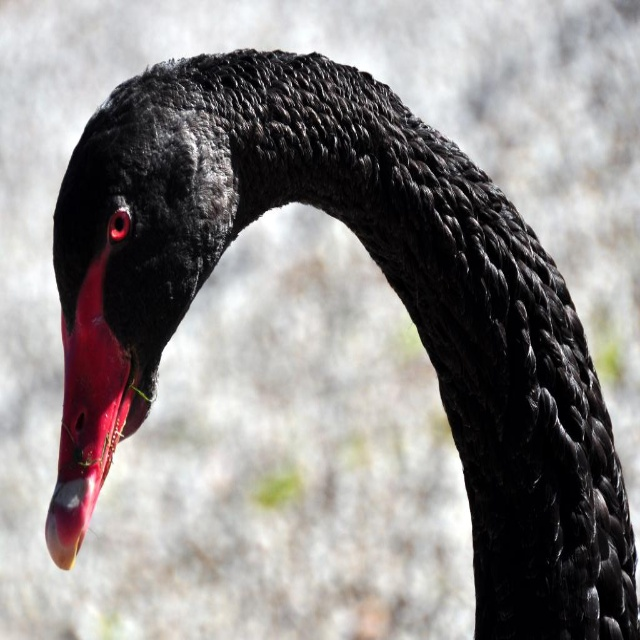Swan: (44, 48, 640, 640)
